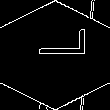L_W: (26, 40, 84, 70)
